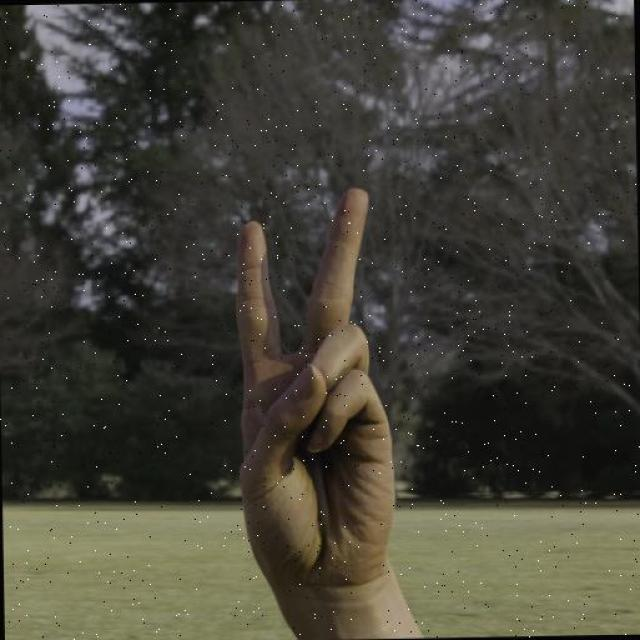V: (225, 182, 410, 587)
